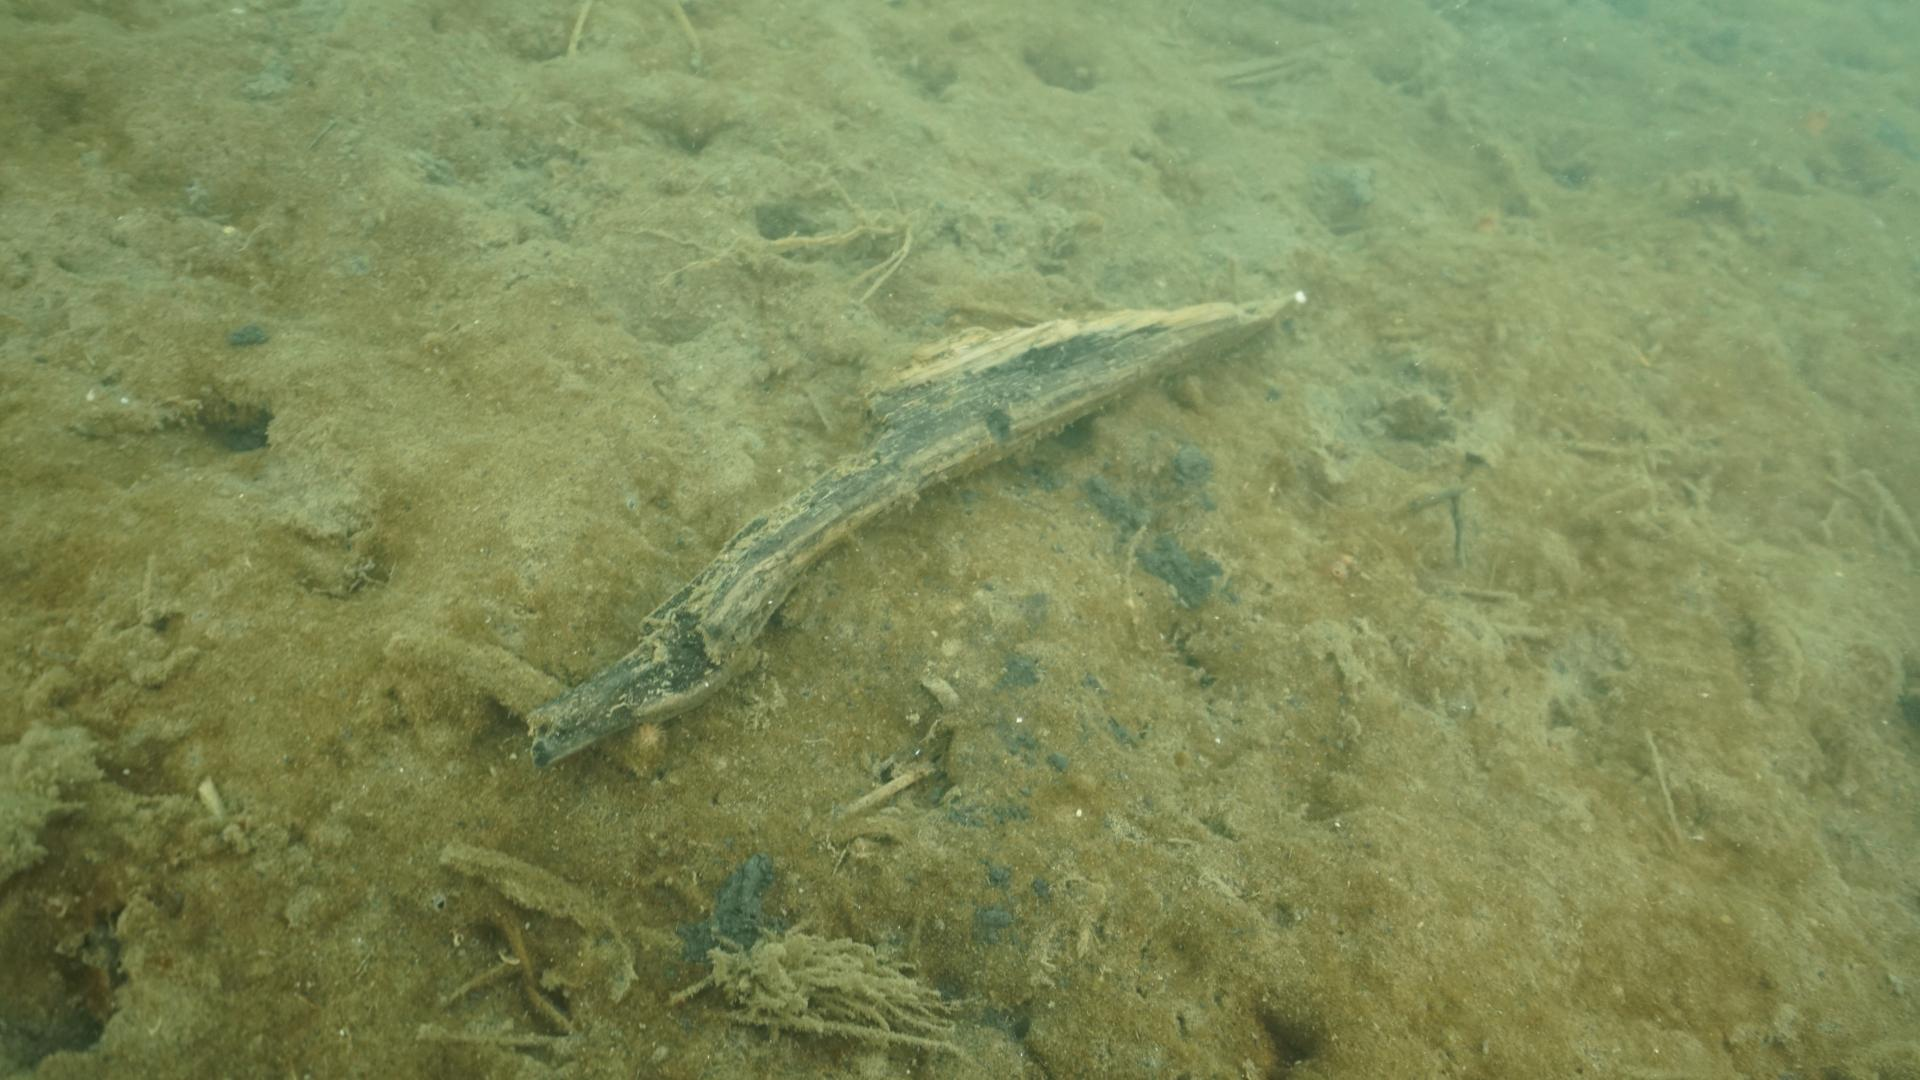wood: (534, 290, 1303, 757)
